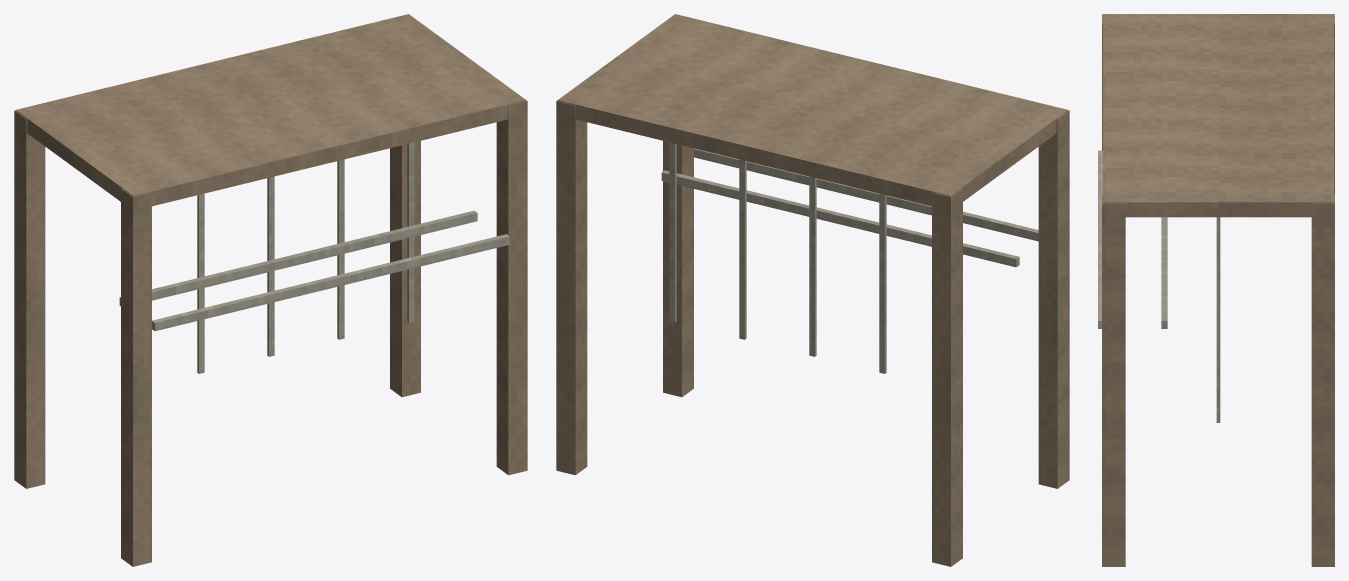
Rendered from level_blockout_net_drying_frame.glb.
3 renders of one model, left to right at view 1: azimuth 30°, elevation 25°; view 2: azimuth 150°, elevation 25°; view 3: azimuth 270°, elevation 25°, orthographic.
Visible parts, largest first — view 1: level_blockout_net_drying_frame; view 2: level_blockout_net_drying_frame; view 3: level_blockout_net_drying_frame.
Part boxes in pixels (x1,y1,x2,y2): level_blockout_net_drying_frame: (14, 14, 527, 566); level_blockout_net_drying_frame: (556, 14, 1069, 566); level_blockout_net_drying_frame: (1098, 14, 1334, 566).
Size of the model in its own units: 2.48 by 2.22 by 1.31.
Materials: 2 (2 with a texture image).
